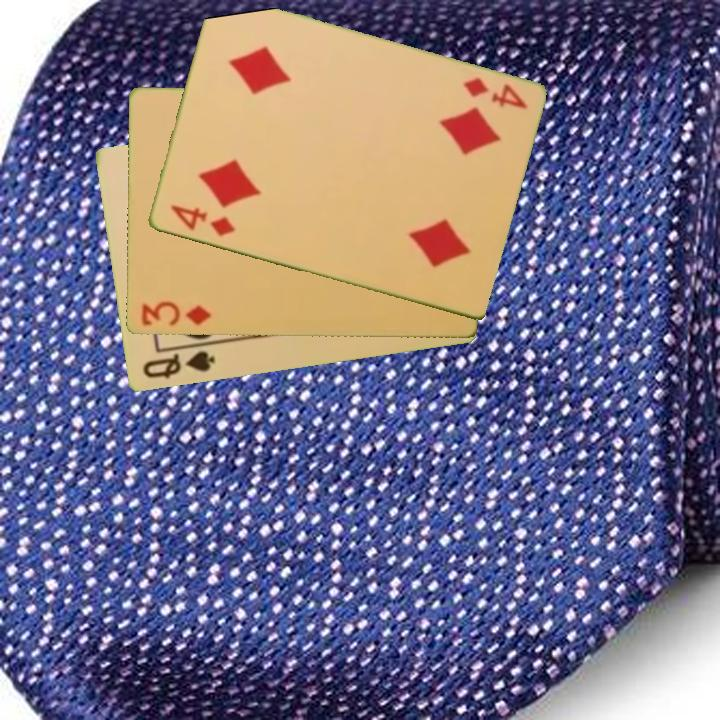3d: (137, 298, 214, 329)
4d: (166, 202, 238, 240), (459, 74, 530, 112)
Qs: (139, 348, 218, 382)
